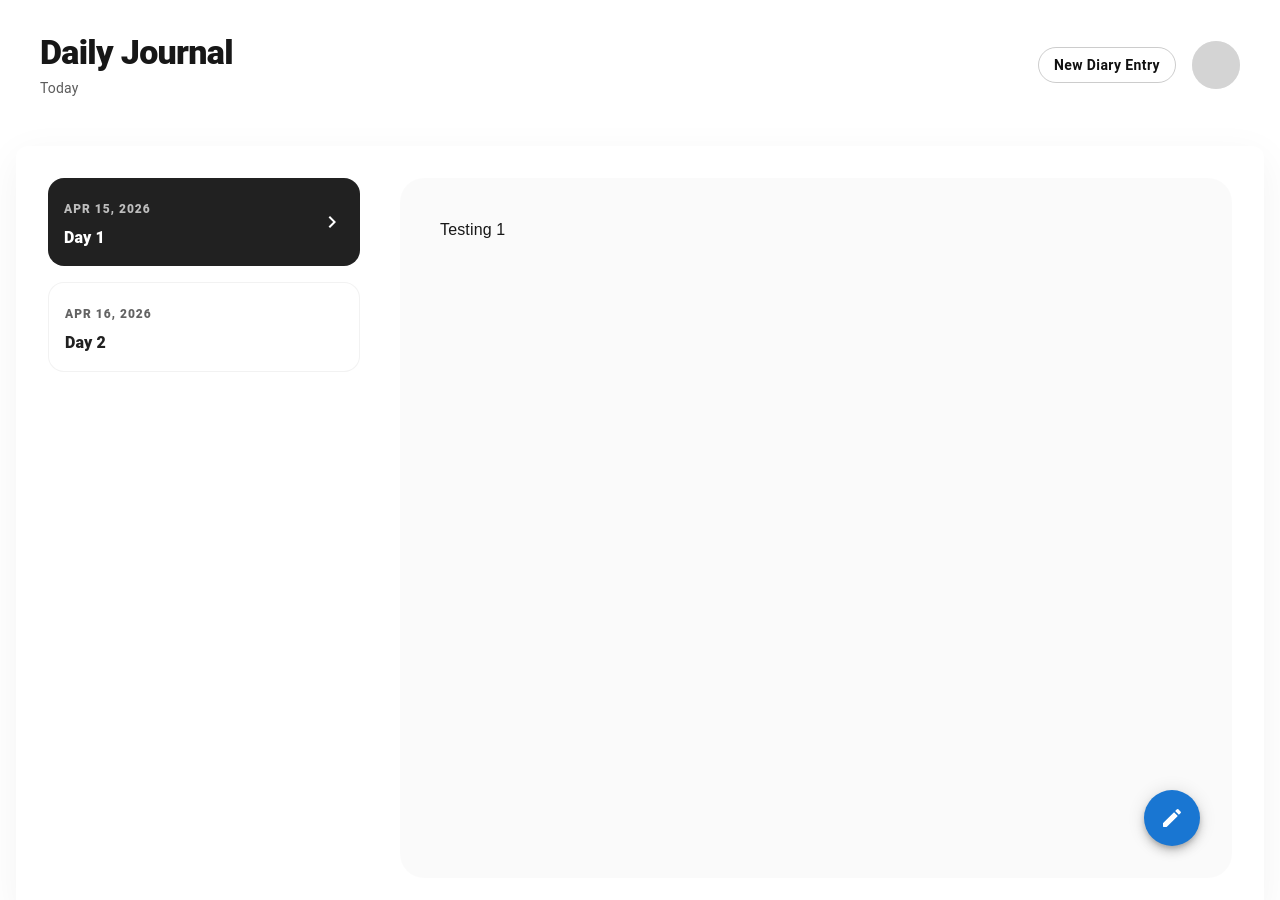
Test: JournalManager Structural Specs › allows selecting list items switching active markdown payloads safely
The image size is (1280, 900).
Expected: the text "Testing 1" is shown, [440,221,505,238]
Click the text "Day 2".
click(86, 342)  # box [65,333,106,352]
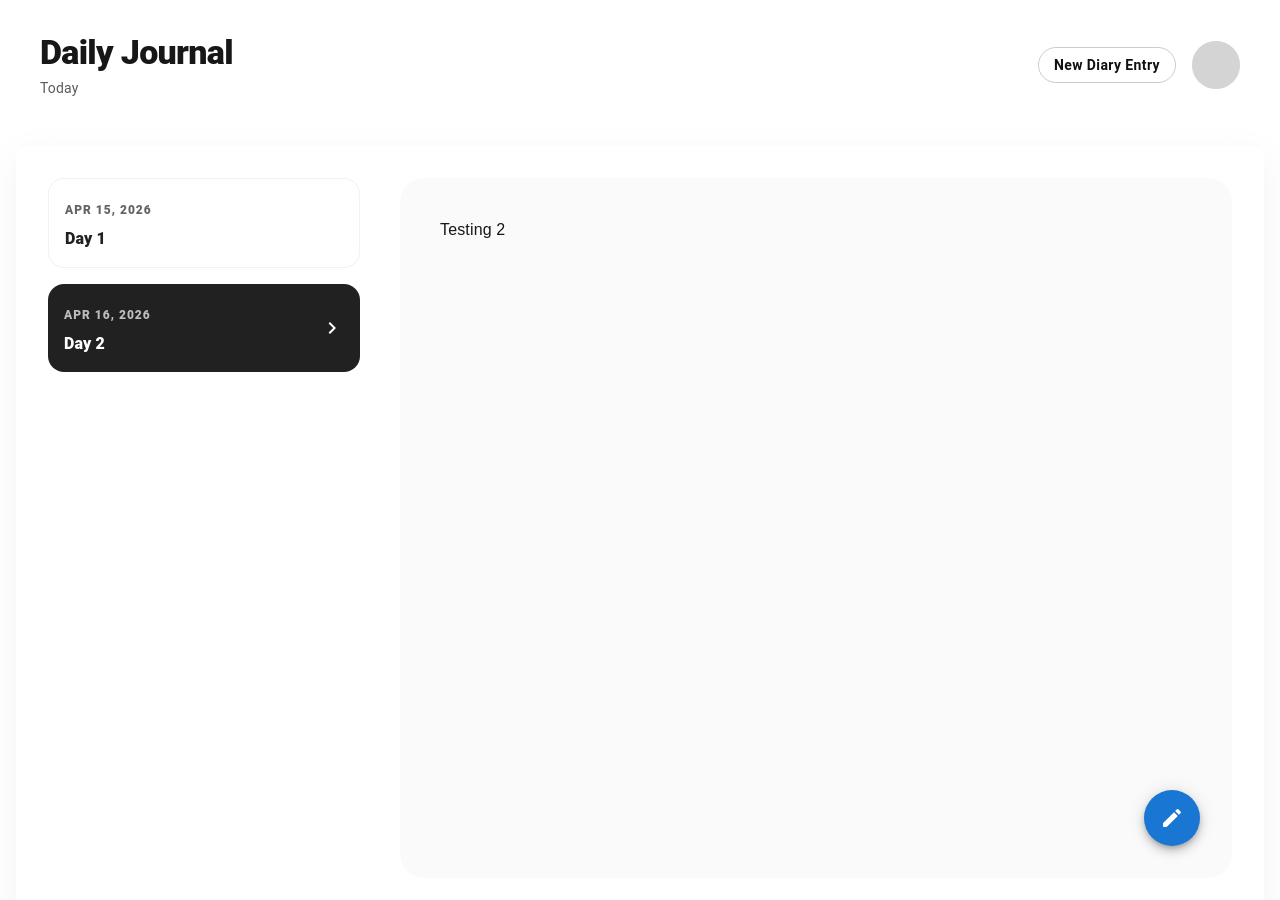
Result: the text "Testing 2" is shown at [440,221,505,238]
